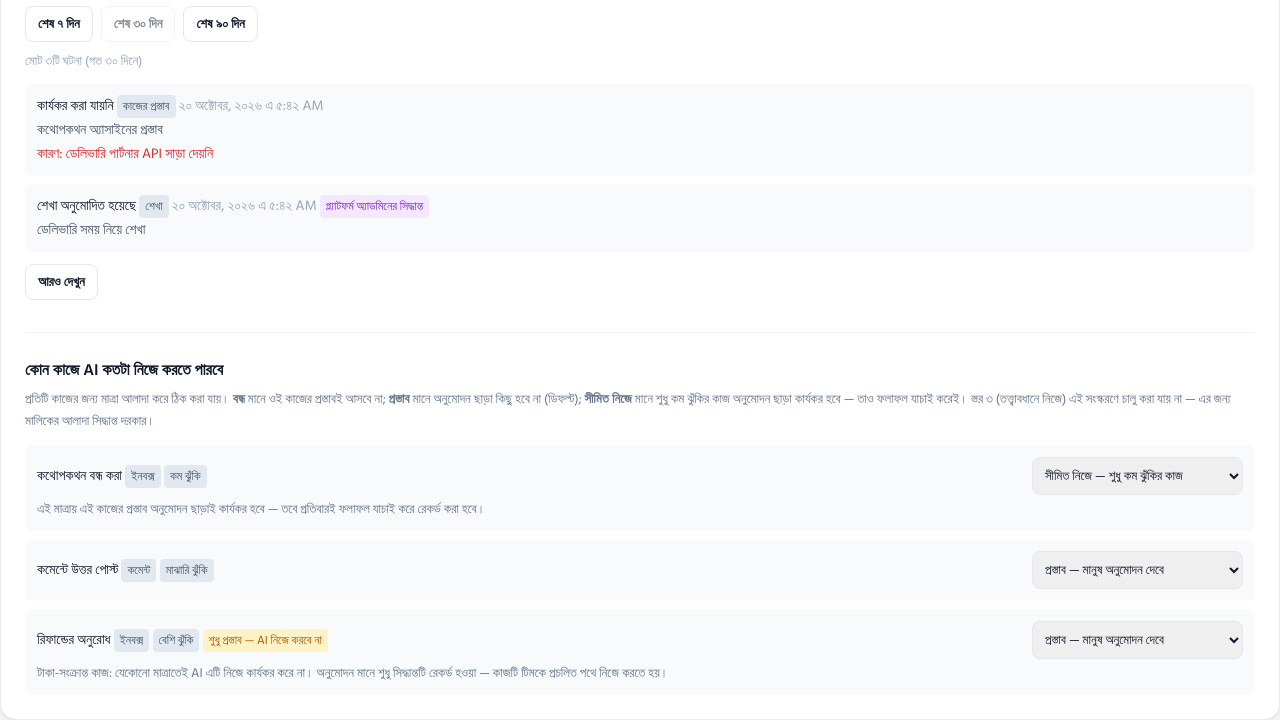
Test: AiControlCenterSection (SA-B13 W4) › autonomy matrix: level change PUTs the level; level 3 is a disabled option; the money row carries its badge
(page scrolled)
Expected: the text "শুধু প্রস্তাব — AI নিজে করবে না" is shown, [203,628,328,652]
Expected: the text "যেকোনো মাত্রাতেই AI এটি নিজে কার্যকর করে না" is shown, [37,662,669,684]
Select "বন্ধ" in the dropdown named "কথোপকথন বন্ধ করা-এর মাত্রা" at [1138, 476], box [1032,456,1243,494]
(page scrolled)
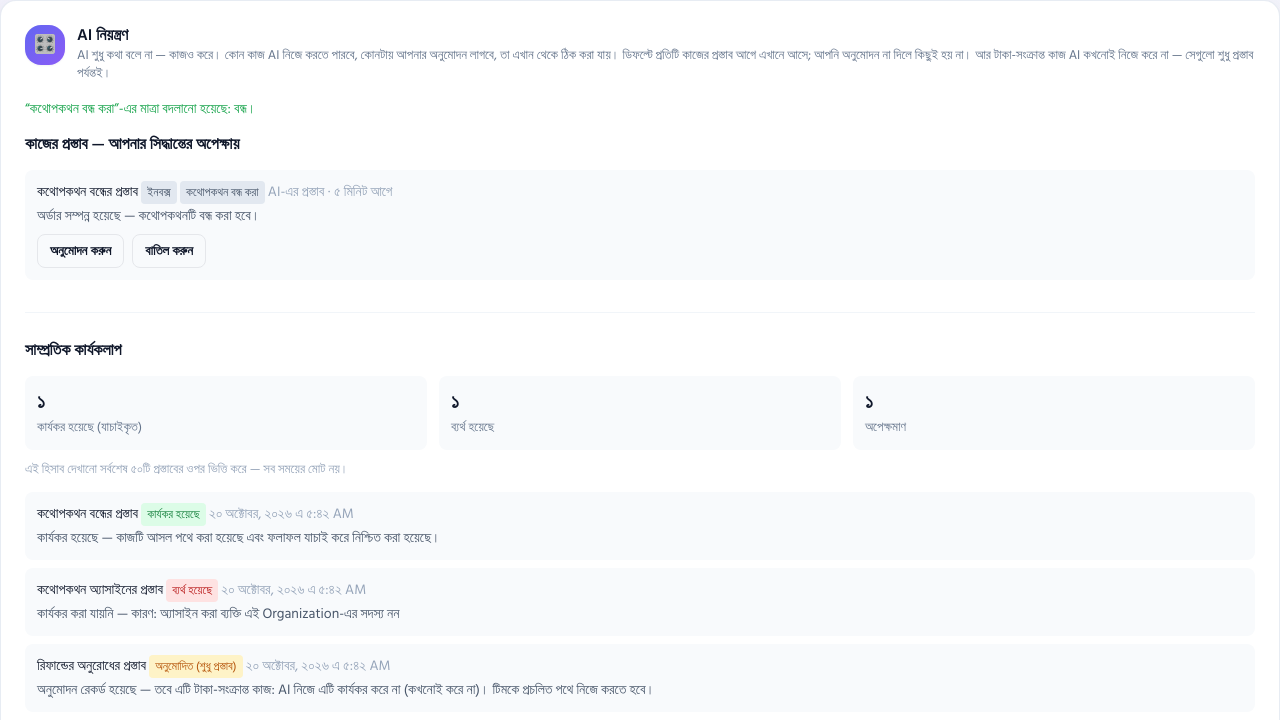
Now the text "“কথোপকথন বন্ধ করা”-এর মাত্রা বদলানো হয়েছে: বন্ধ।" is shown, box [25,97,256,120]
